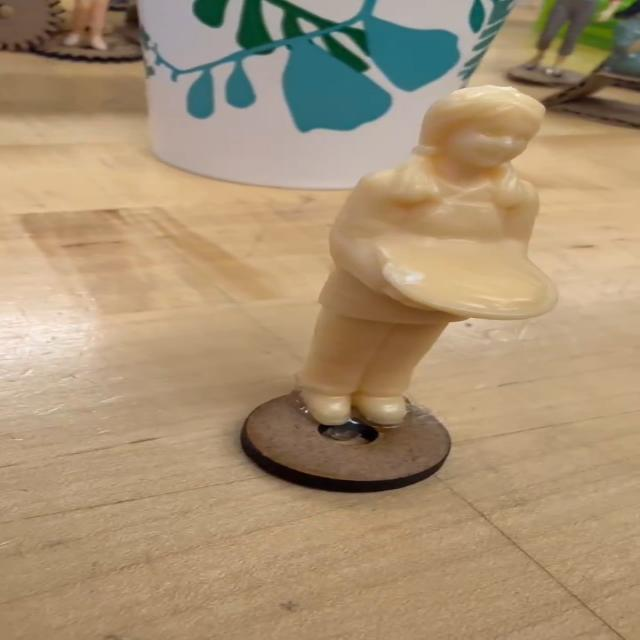Unauthorized: (207, 83, 598, 445)
